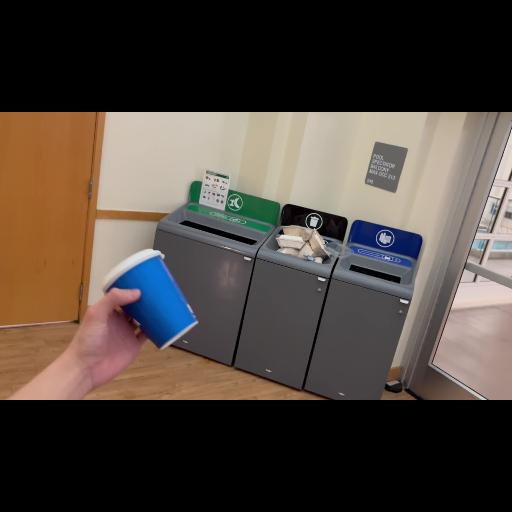lp_paper_cup: (92, 244, 206, 362)
